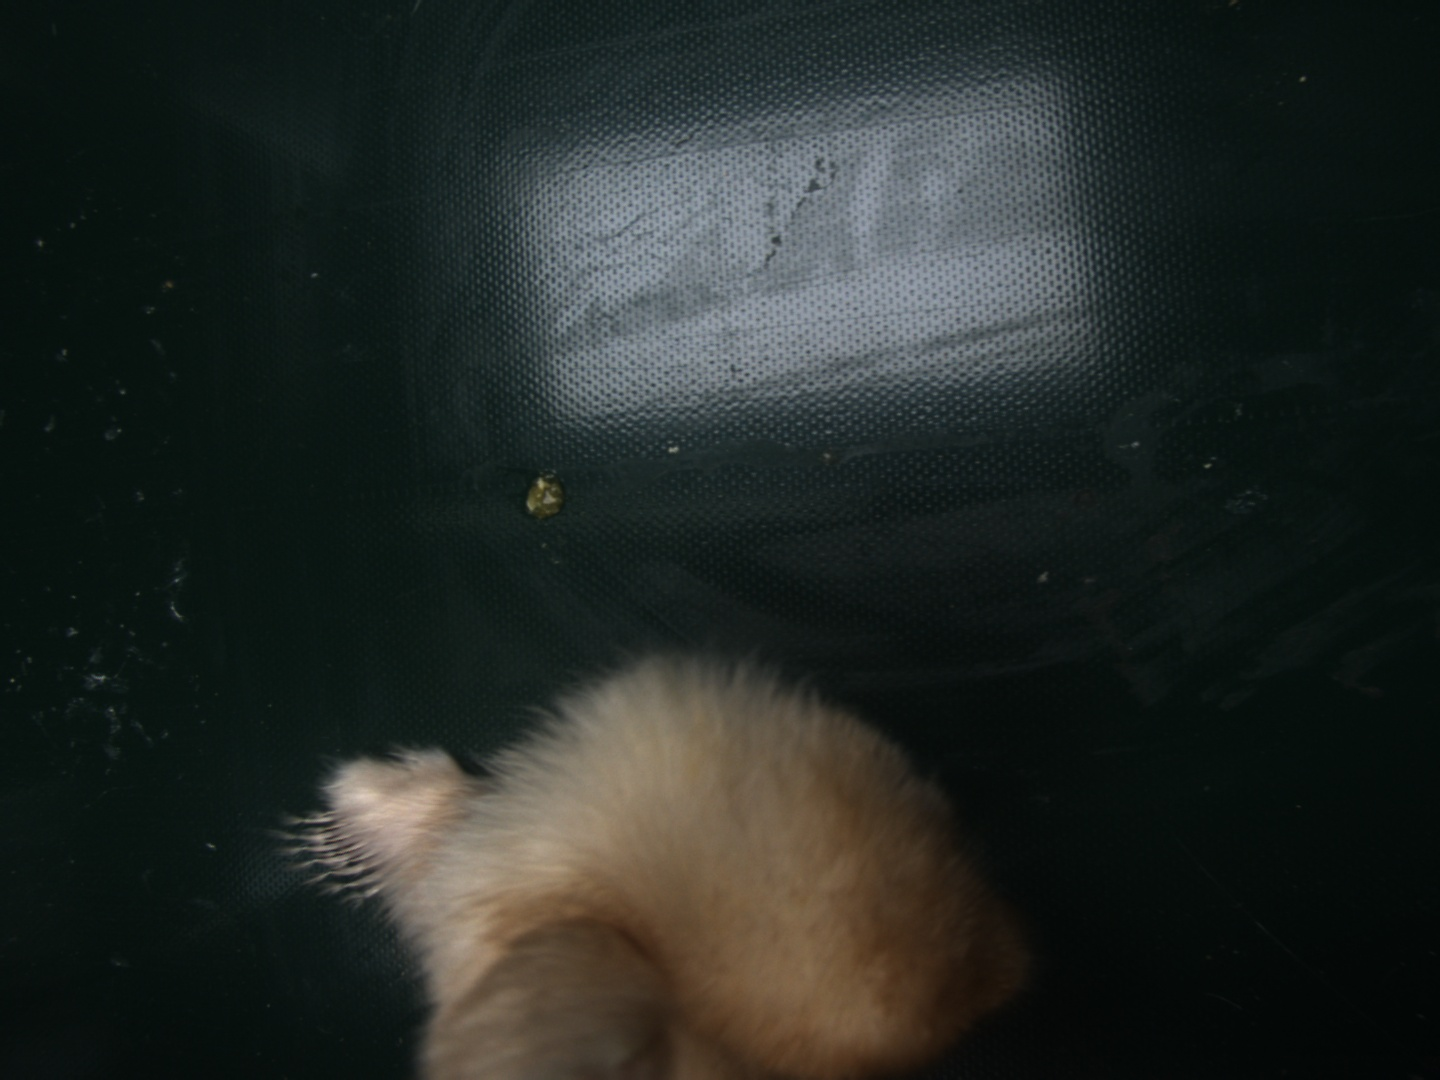female: (274, 801, 395, 906)
